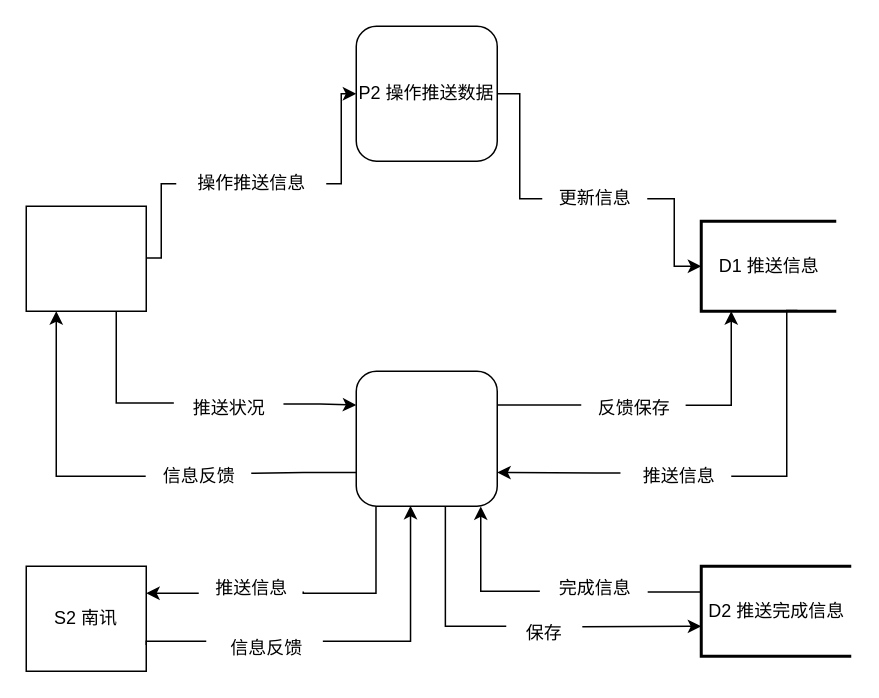
This 879x698 diagram has some shape labels left out. Here are the shapes that lost their labels. From the top down, the centre of each, then its label:
At point (85, 258): "S1 用户".
At point (426, 438): "P1 EZR推送处理系统".
